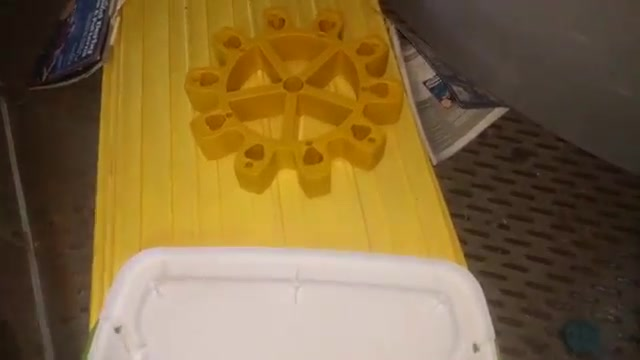gear: (162, 4, 421, 217)
